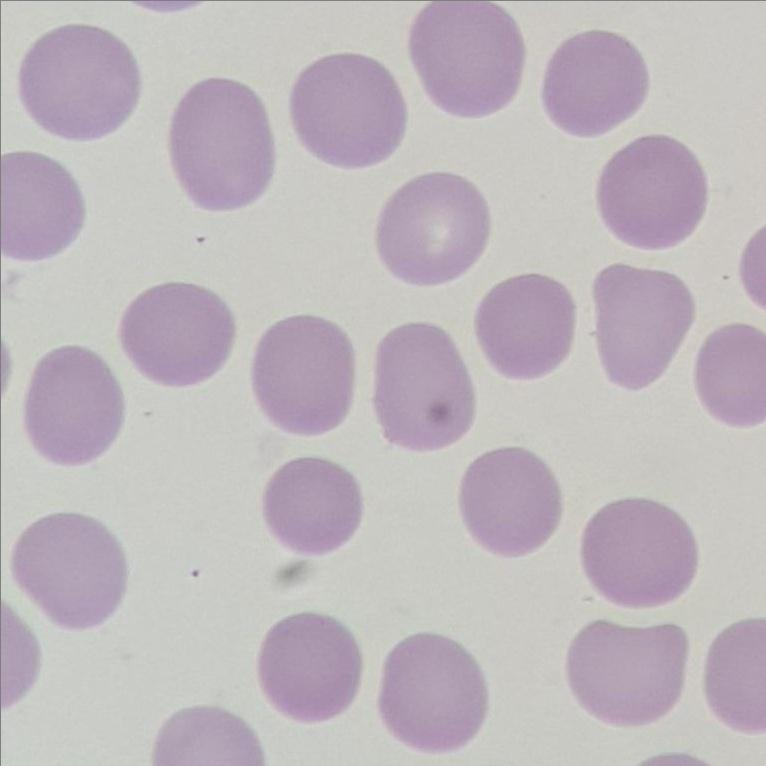Uninfected: (18, 23, 141, 144), (374, 321, 479, 452), (12, 513, 127, 629), (170, 77, 271, 209), (580, 497, 698, 609), (294, 53, 407, 169), (538, 27, 653, 138), (568, 617, 687, 724), (254, 313, 359, 434), (594, 263, 697, 386), (412, 0, 521, 114), (378, 633, 485, 748), (378, 173, 486, 286), (600, 135, 707, 249), (122, 281, 233, 390), (24, 345, 122, 461), (462, 449, 567, 556), (262, 609, 359, 719), (476, 275, 574, 374), (0, 153, 87, 260), (264, 461, 362, 550)
